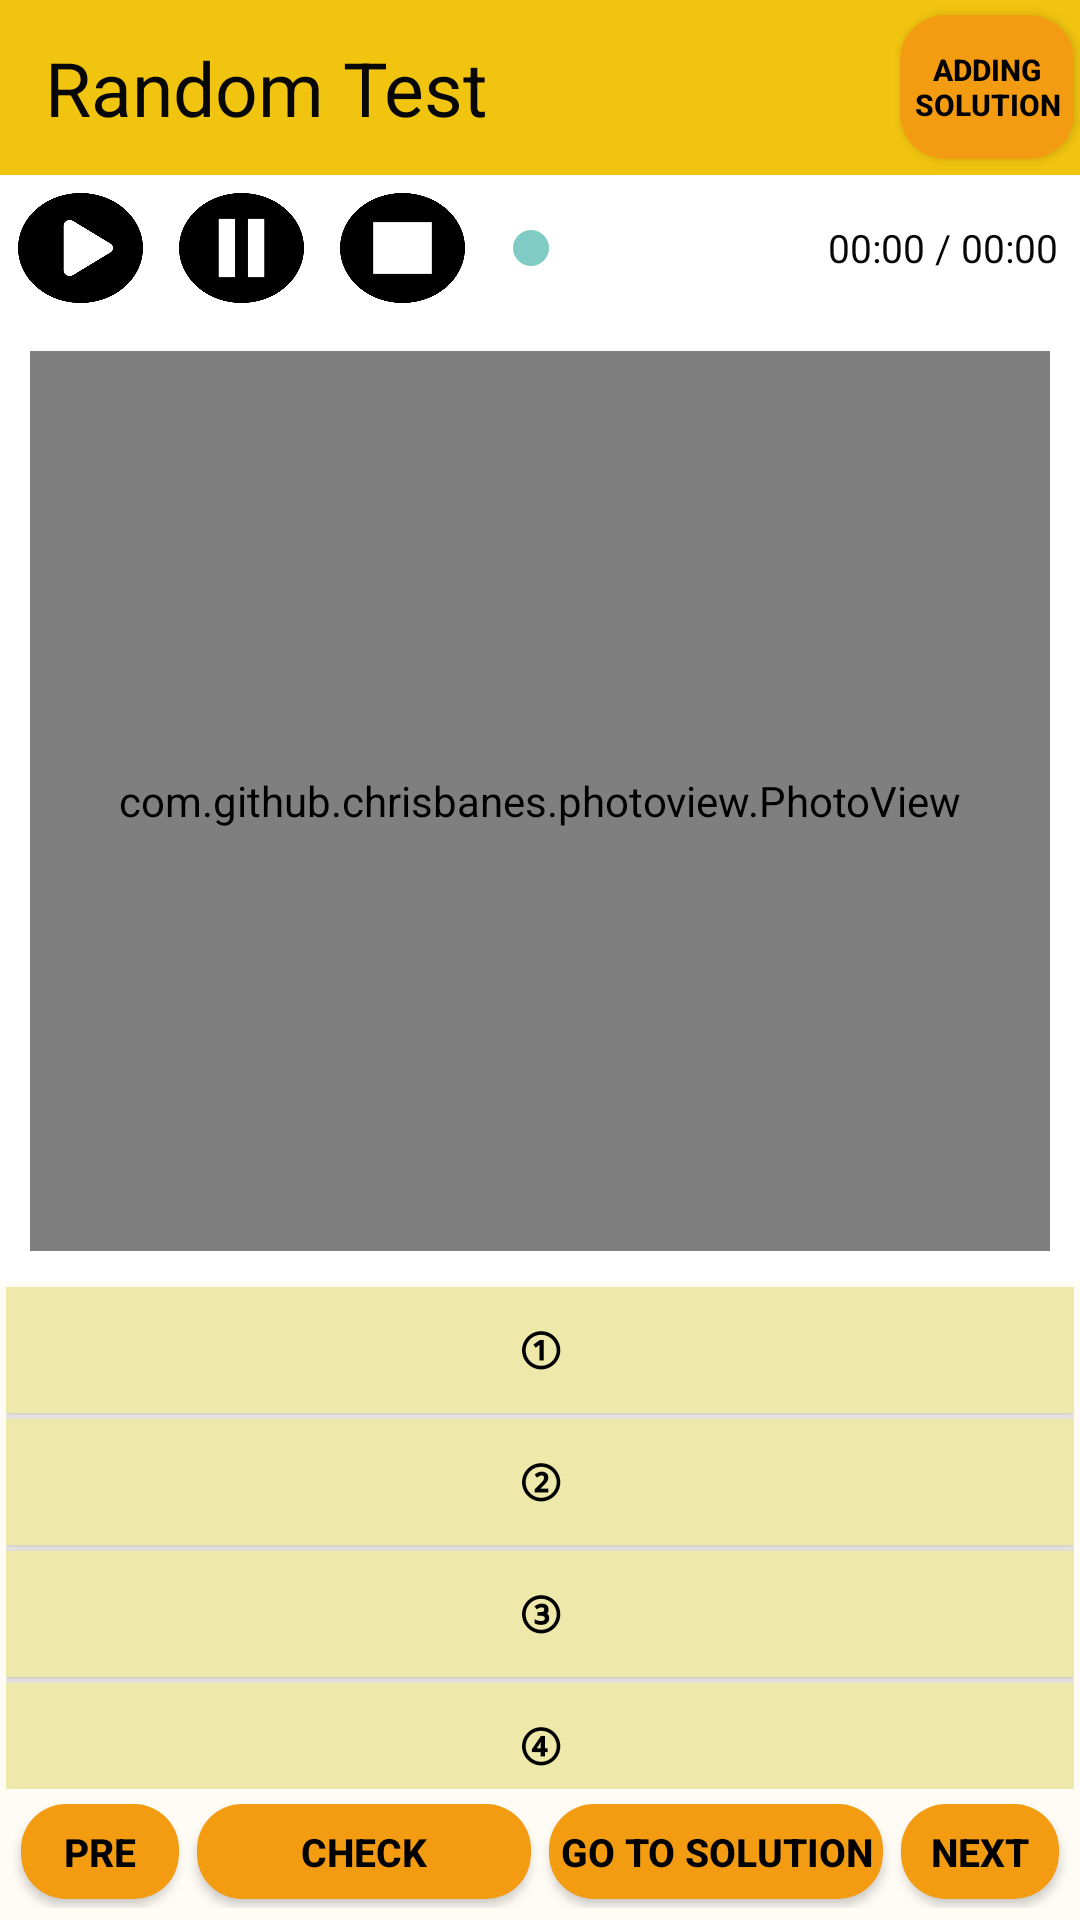

Icons on this 1080*1920 Android screen, each with the point to tap as point (x, y):
musicstart: point (80, 248)
musicstop: point (402, 248)
pause: point (241, 248)
